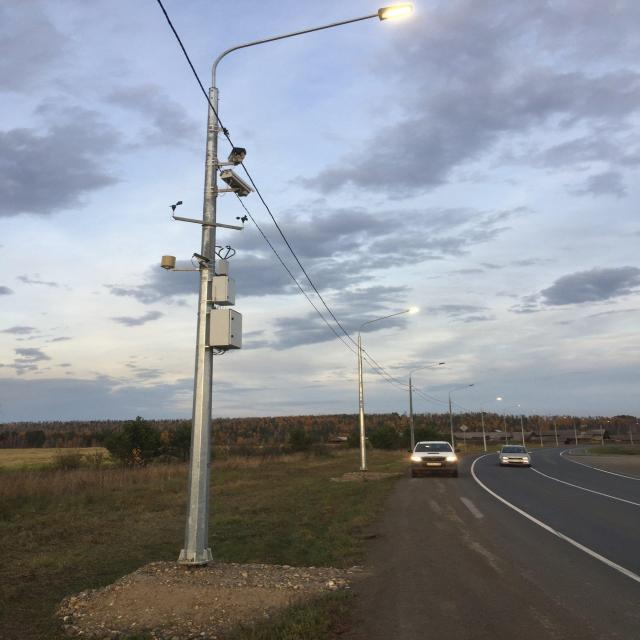pole: (184, 148, 239, 580)
